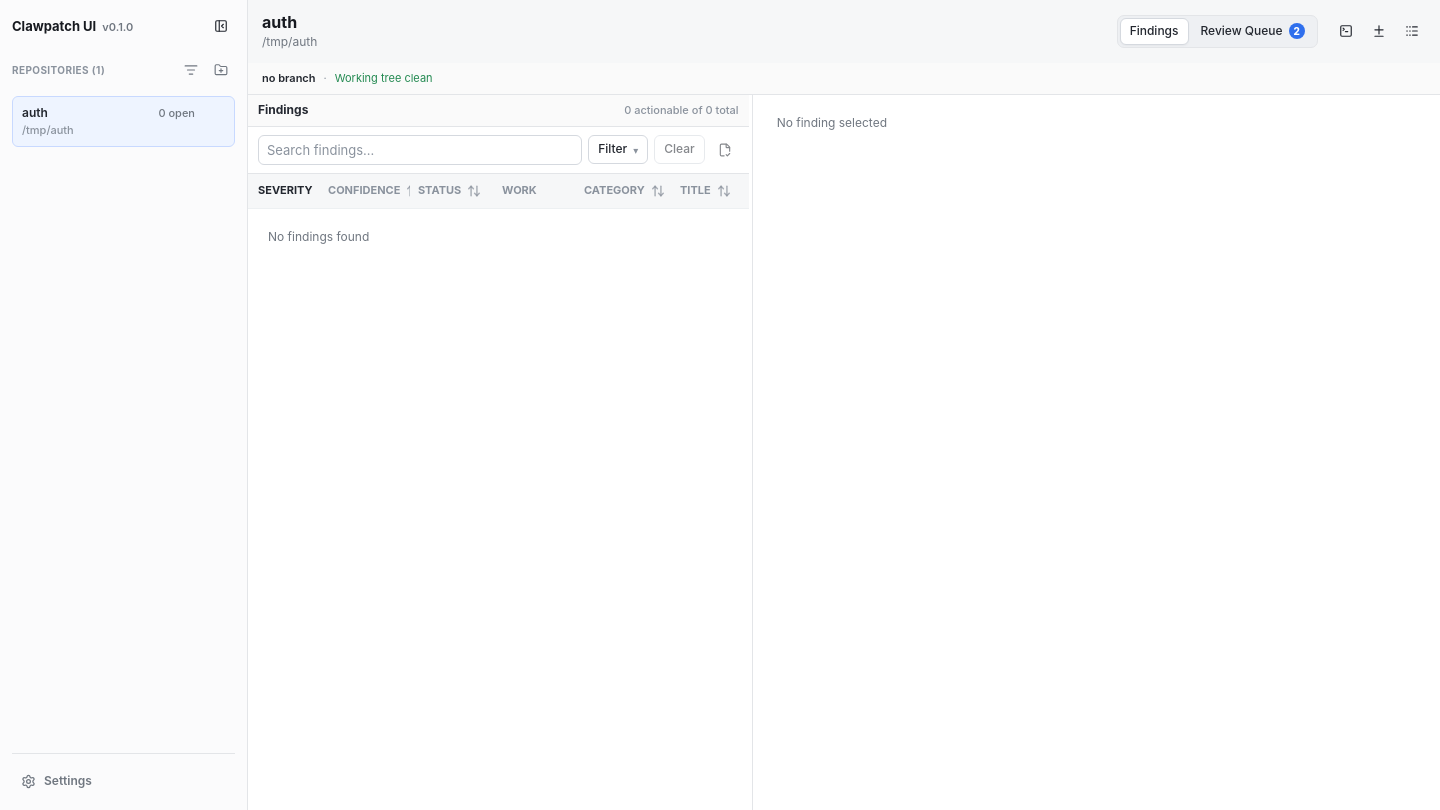
Scenario: ClawpatchApp header actions › shows terminal launch errors under the header
This screenshot has width=1440, height=810.
Expected: the heading "auth" is shown, [262,12,297,32]
Click the button named "Open terminal" at (1346, 31), box [1332,17,1360,45]
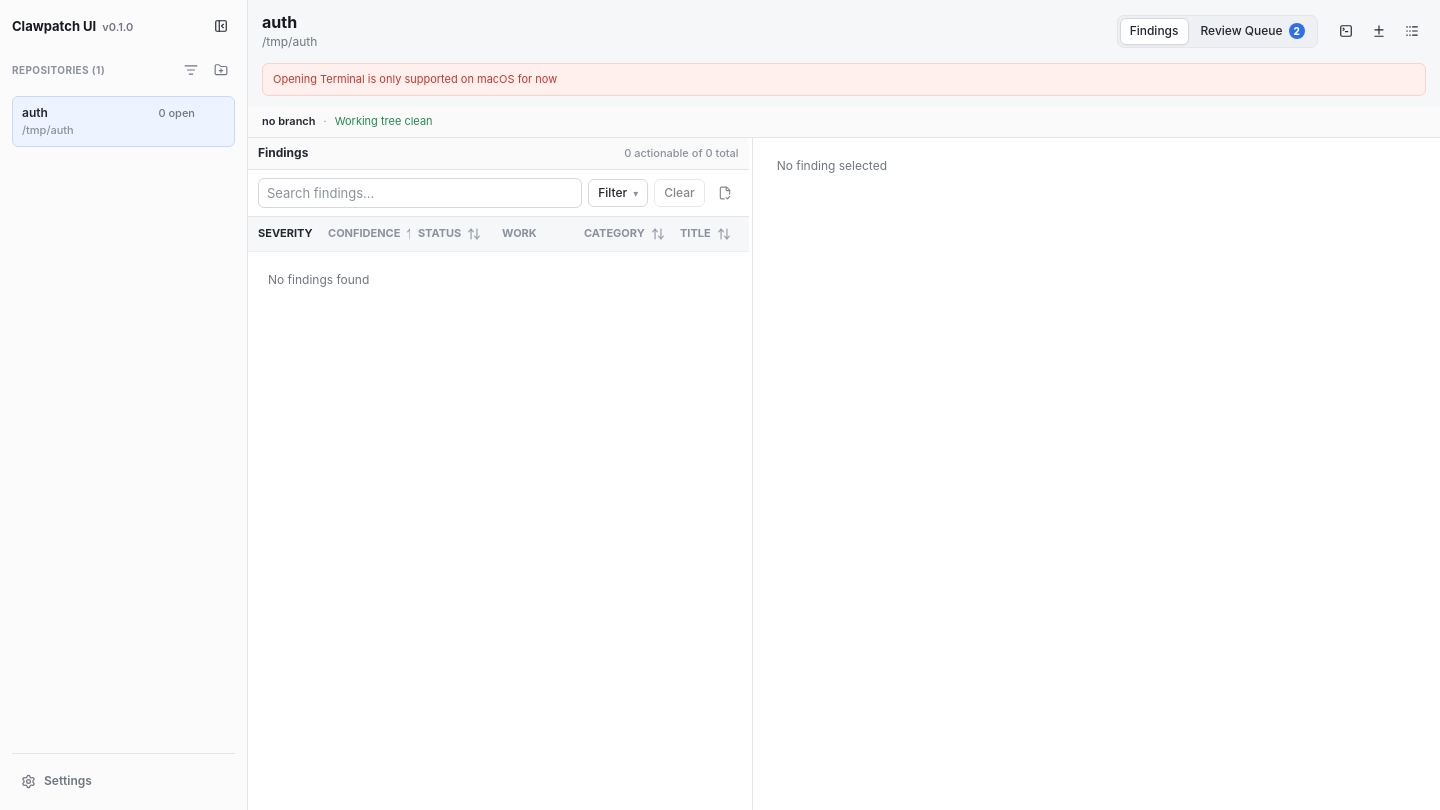
Now the text "Opening Terminal is only supported on macOS for now" is shown, box [262,63,1426,96]
